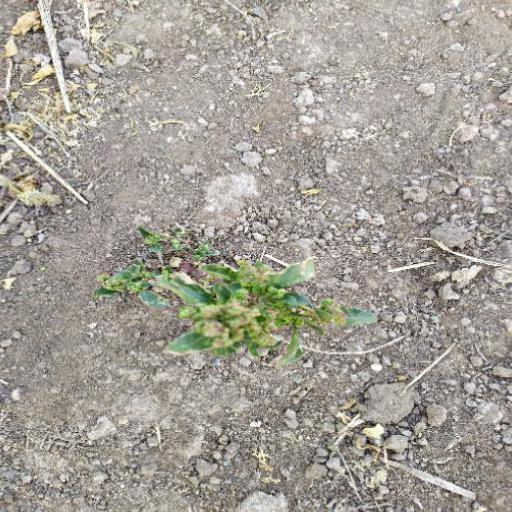weed: (106, 222, 370, 376)
